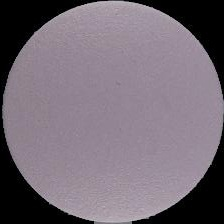67046-044: (0, 0, 224, 224)
